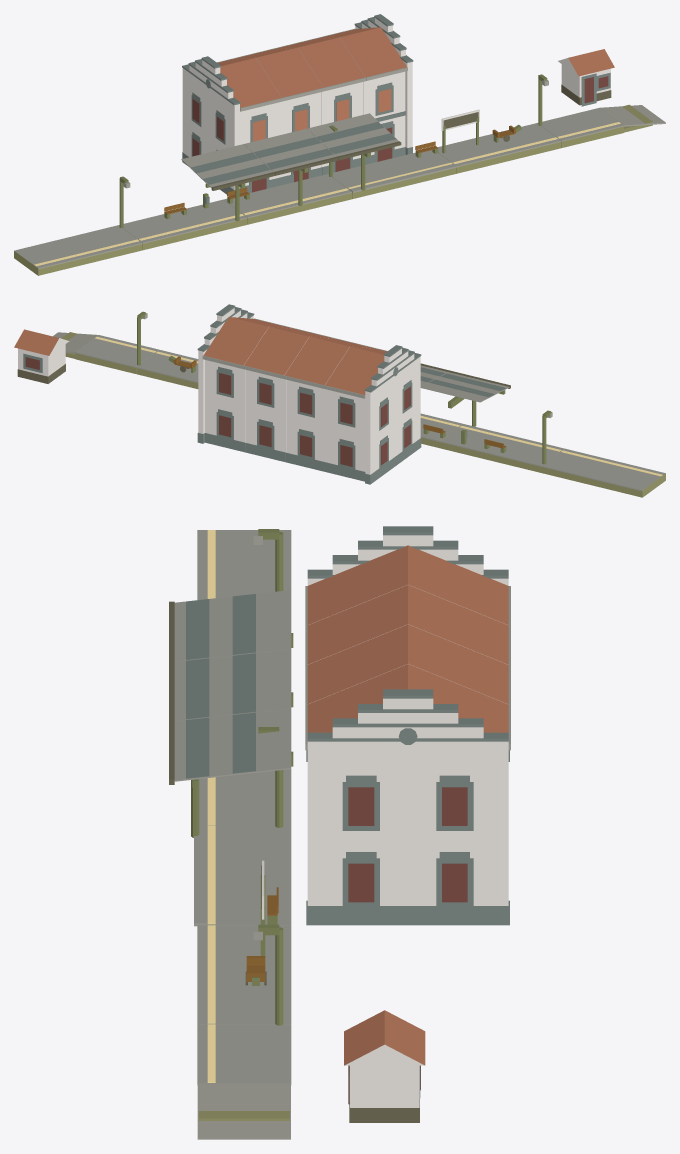
Rendered from SM_EstacionNules_v1_LOD1.fbx.
3 views of the same model, one above another, from view 1: azimuth 30°, elevation 25°; view 2: azimuth 150°, elevation 25°; view 3: azimuth 270°, elevation 25° (orthographic). The views are drawn at different scales.
Parts seen in each view (by area): view 1: SM_bloques.estacion_nules_v1_LOD1; view 2: SM_bloques.estacion_nules_v1_LOD1; view 3: SM_bloques.estacion_nules_v1_LOD1.
Boxes of the visible parts, x1,y1,x2,y2 form: SM_bloques.estacion_nules_v1_LOD1: (14, 14, 665, 275); SM_bloques.estacion_nules_v1_LOD1: (14, 304, 665, 497); SM_bloques.estacion_nules_v1_LOD1: (169, 526, 510, 1139).
Bounding box in the file's own units: 59.99 × 11 × 14.62.
